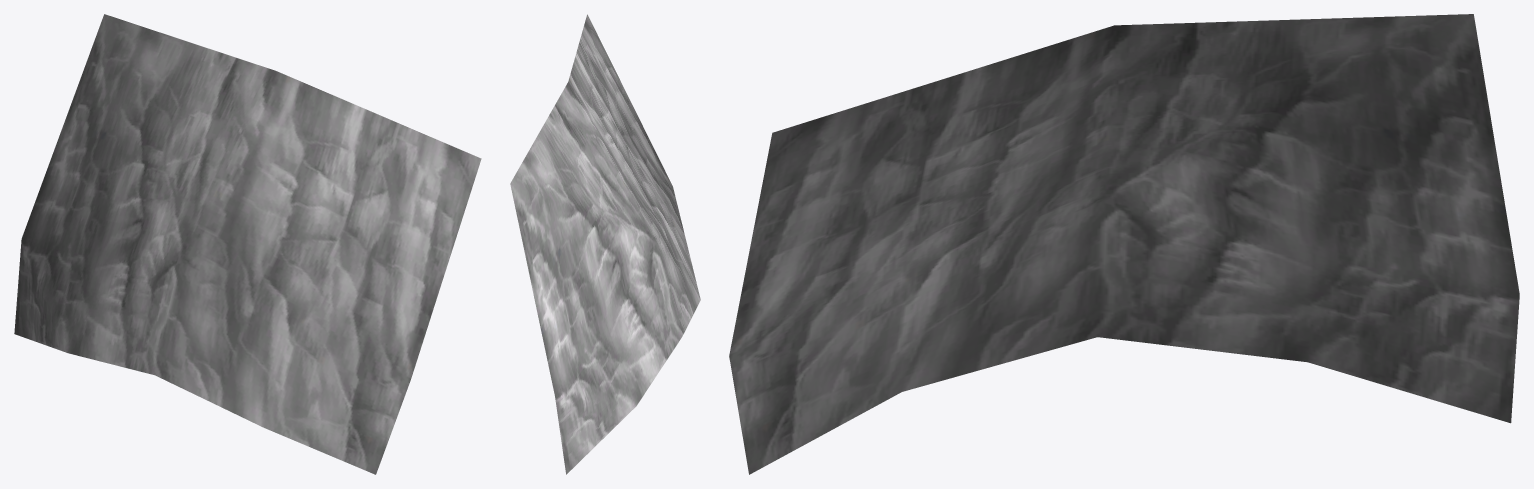
Rendered from SWORDLIGHT20_PS-AREA03_78.fbx.
3 views of the same model, side by side, from view 1: azimuth 30°, elevation 25°; view 2: azimuth 150°, elevation 25°; view 3: azimuth 270°, elevation 25° (orthographic). The views are drawn at different scales.
Visible parts, largest first — view 1: SWORDLIGHT20_PS-AREA03_78; view 2: SWORDLIGHT20_PS-AREA03_78; view 3: SWORDLIGHT20_PS-AREA03_78.
Part boxes in pixels (x1,y1,x2,y2): SWORDLIGHT20_PS-AREA03_78: (14,14,481,474); SWORDLIGHT20_PS-AREA03_78: (510,14,700,474); SWORDLIGHT20_PS-AREA03_78: (729,14,1519,474).
Size of the model in its own units: 40703 by 54231 by 78804.
1 material, 1 textured.
